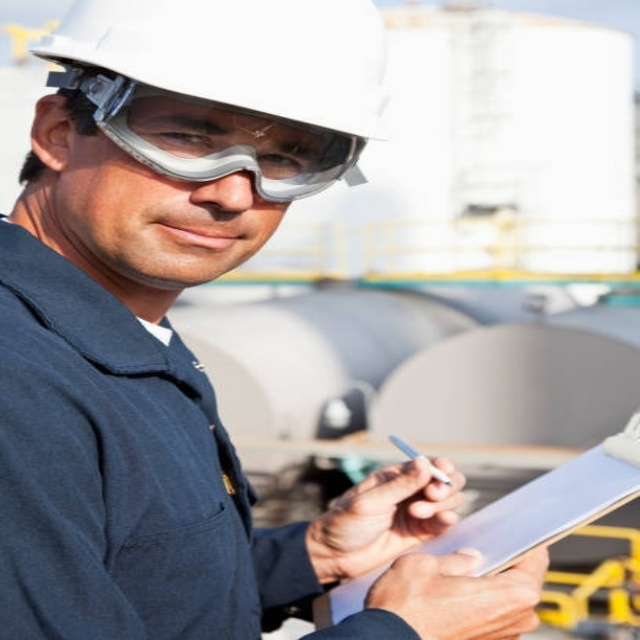Gafas: (57, 69, 370, 203)
Sin_guantes: (314, 449, 482, 578), (359, 540, 552, 640)
Sin_mascara: (133, 213, 256, 276)
